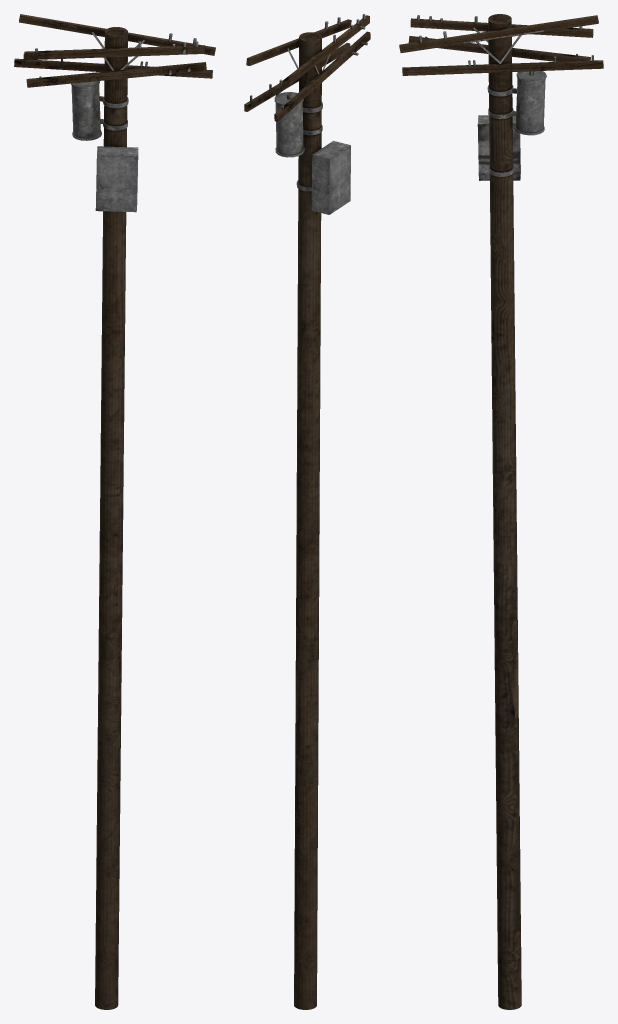
Rendered from SM_ElectricalPole04.fbx.
The picture shows the model from 3 angles, left to right: view 1: azimuth 90°, elevation 25°; view 2: azimuth 150°, elevation 25°; view 3: azimuth 270°, elevation 25°; orthographic projection. The views are drawn at different scales.
Visible parts, largest first — view 1: SM_ElectricalPole04_LOD0; view 2: SM_ElectricalPole04_LOD0; view 3: SM_ElectricalPole04_LOD0.
Part boxes in pixels (bbox=[...]): SM_ElectricalPole04_LOD0: bbox=[14, 14, 215, 1009]; SM_ElectricalPole04_LOD0: bbox=[244, 14, 370, 1009]; SM_ElectricalPole04_LOD0: bbox=[399, 14, 603, 1009].
Size of the model in its own units: 35.73 by 127 by 683.
Materials: 1 (1 with a texture image).
